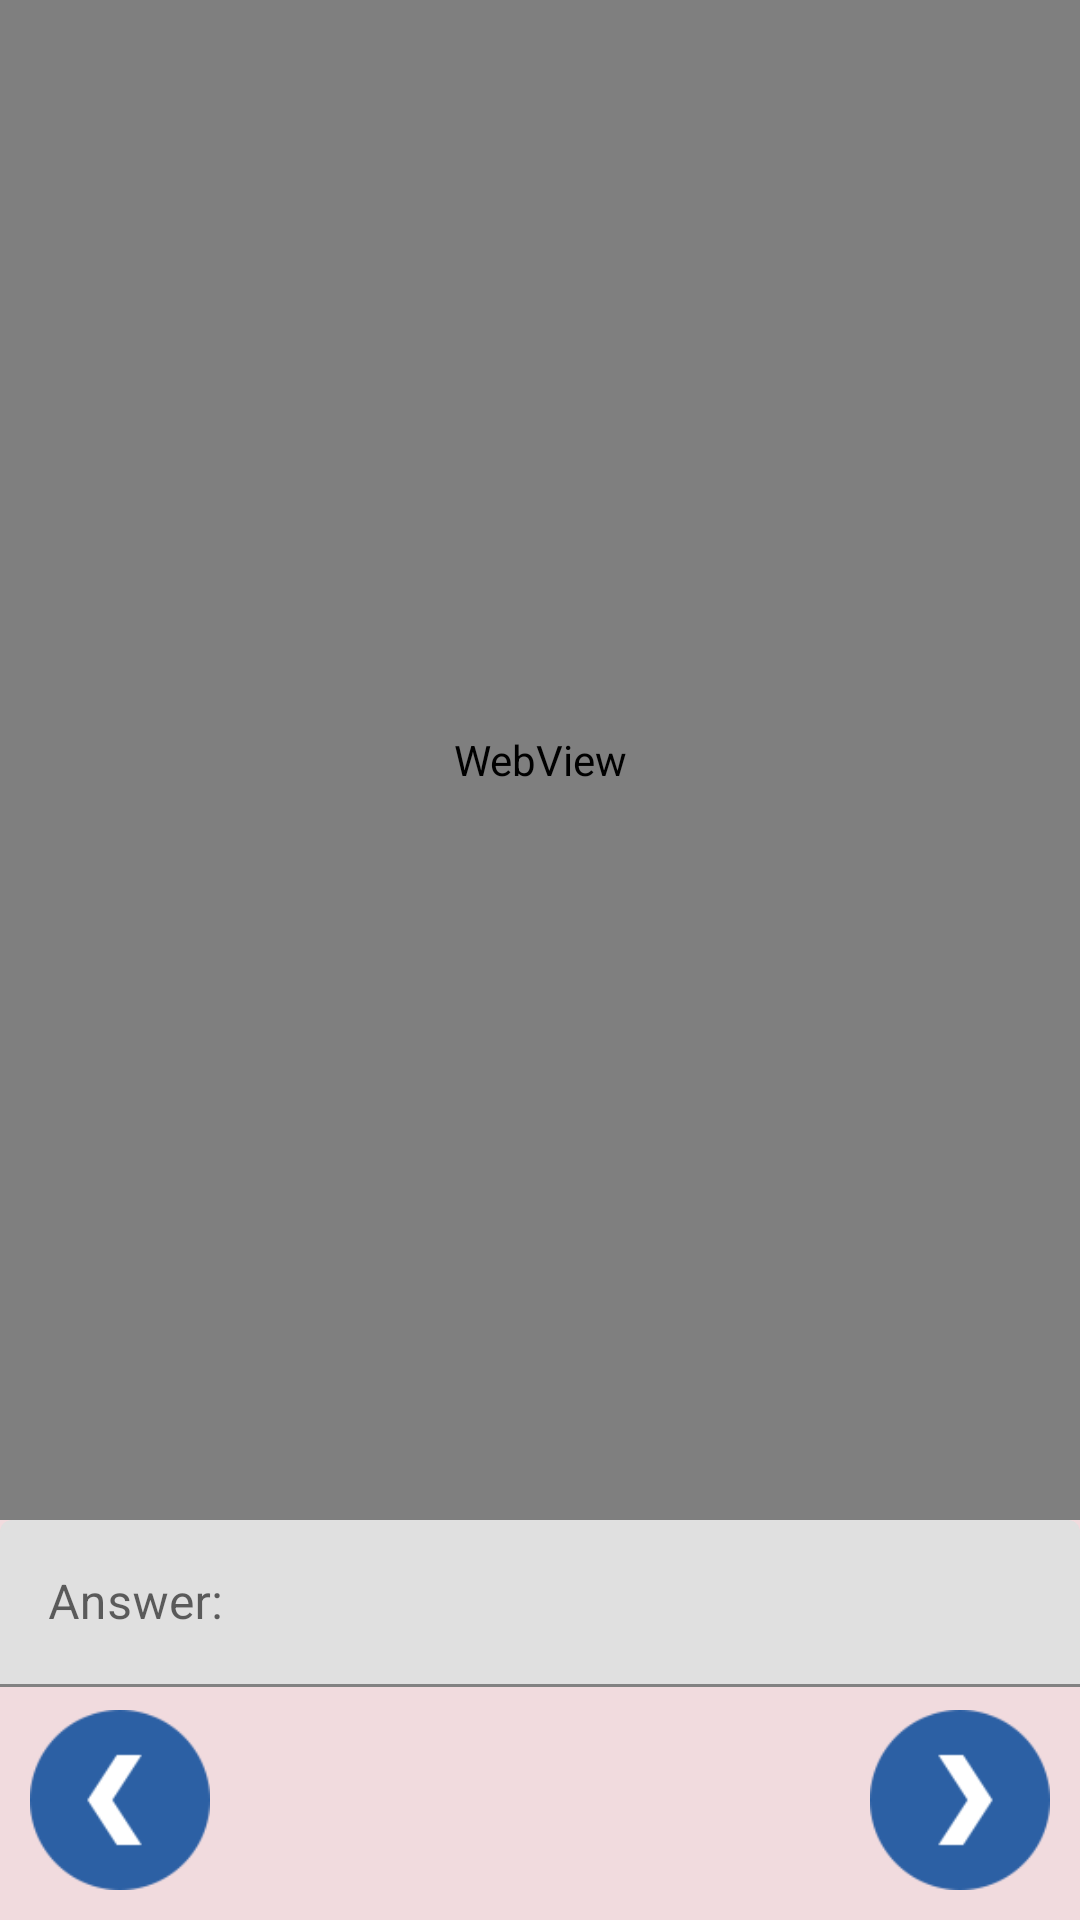

Icons on this 1080px x 1920px Android screen, each with the point to tap as [x,y]:
next: [960,1800]
prev: [120,1800]
